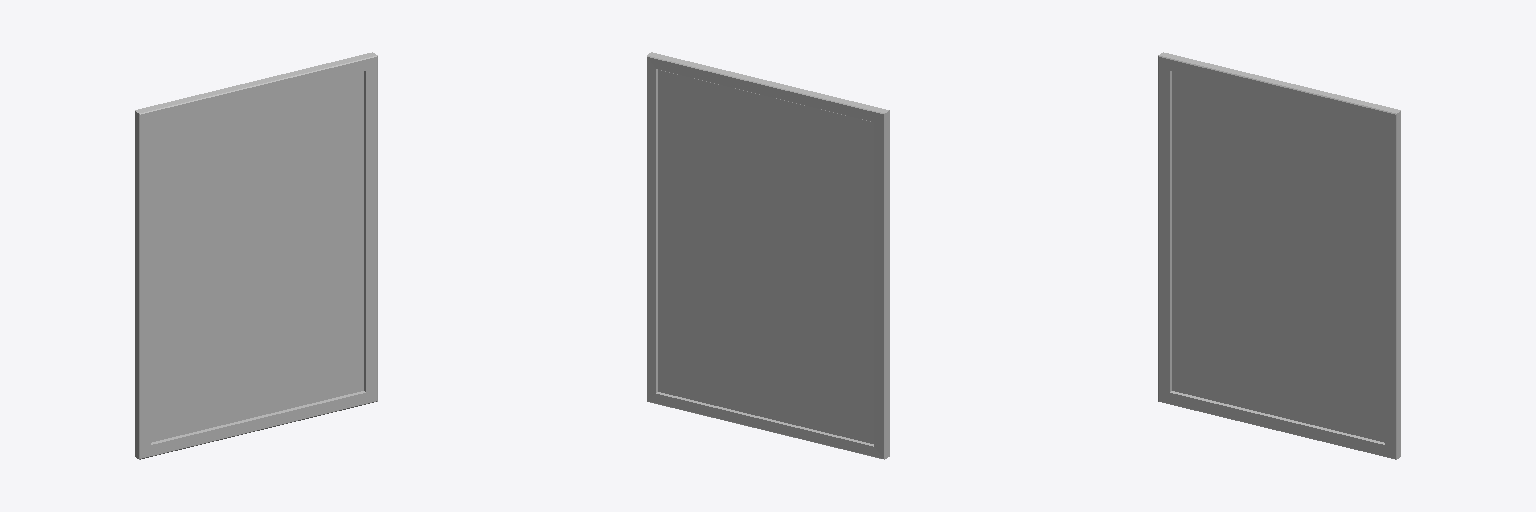
3 renders of one model, left to right at view 1: azimuth 30°, elevation 25°; view 2: azimuth 150°, elevation 25°; view 3: azimuth 330°, elevation 25°, orthographic.
Visible parts, largest first — view 1: B1.obj; view 2: B1.obj; view 3: B1.obj.
Boxes of the visible parts, <box> form: B1.obj: <box>135,52,377,459</box>; B1.obj: <box>647,52,889,459</box>; B1.obj: <box>1158,52,1400,459</box>.
Size of the model in its own units: 0.7758 by 1.08 by 0.0298.